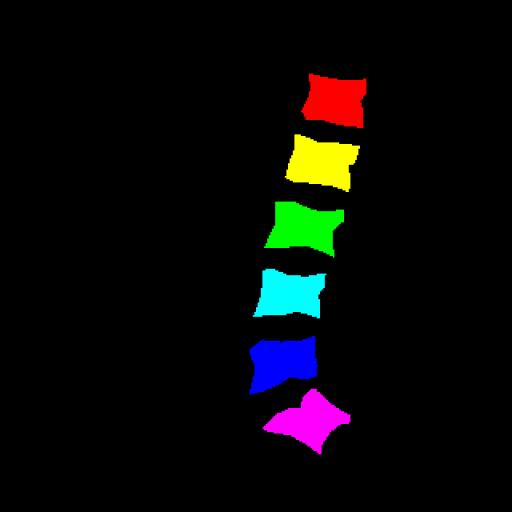L1: (302, 74, 366, 128)
L2: (285, 134, 360, 192)
L3: (266, 202, 344, 256)
L4: (254, 270, 326, 318)
L5: (254, 338, 315, 394)
S1: (263, 389, 350, 454)
